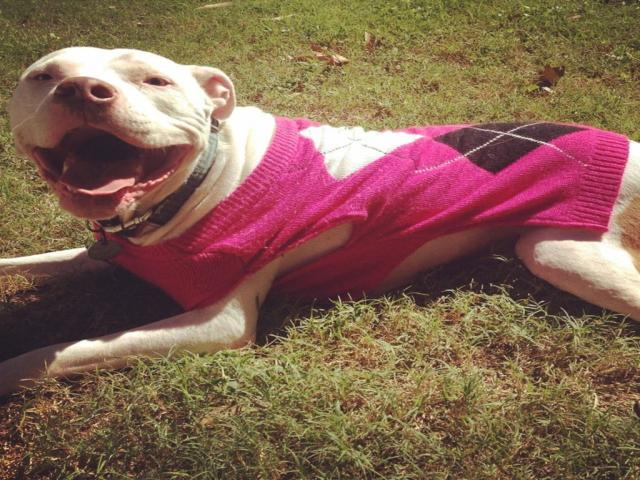Dog: (0, 43, 639, 398), (0, 44, 639, 398)
